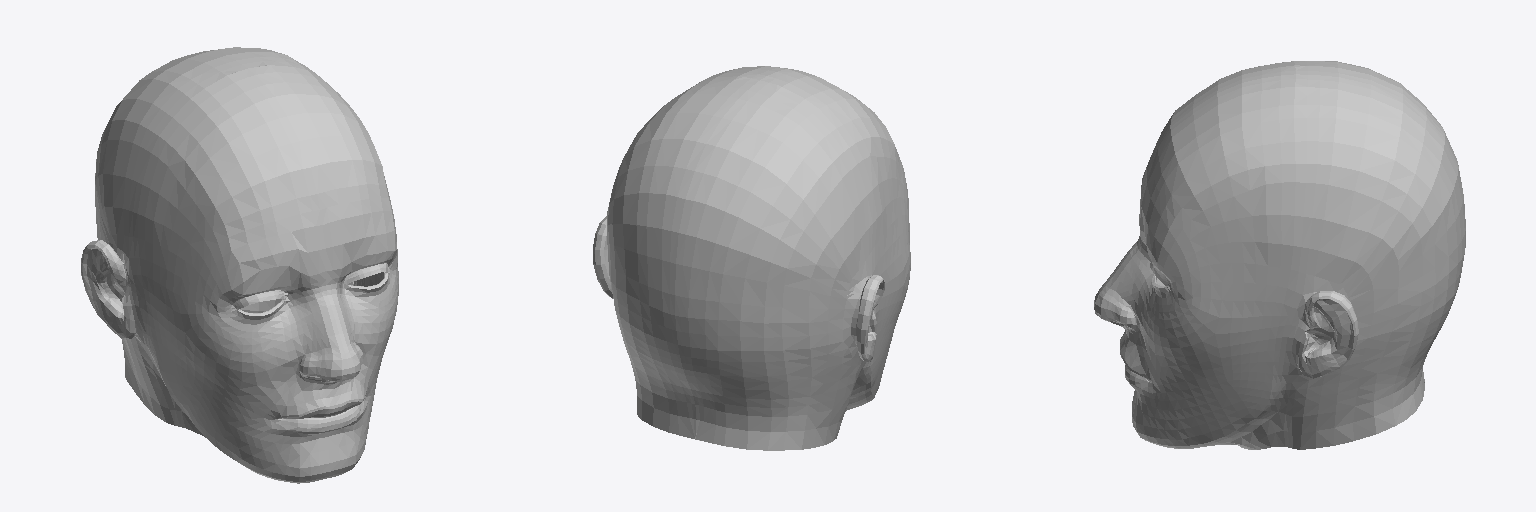
File: take2.obj
3 renders of one model, left to right at view 1: azimuth 30°, elevation 25°; view 2: azimuth 150°, elevation 25°; view 3: azimuth 270°, elevation 25°, orthographic.
Parts seen in each view (by area): view 1: Mesh_object0; view 2: Mesh_object0; view 3: Mesh_object0.
Boxes of the visible parts, box(x1,y1,x2,y2) form: Mesh_object0: box(81, 47, 398, 483); Mesh_object0: box(593, 66, 910, 450); Mesh_object0: box(1094, 61, 1465, 449).
Size of the model in its own units: 153 by 191 by 177.